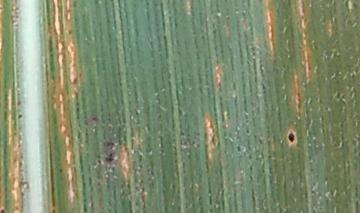tarspot: (286, 128, 296, 145)
